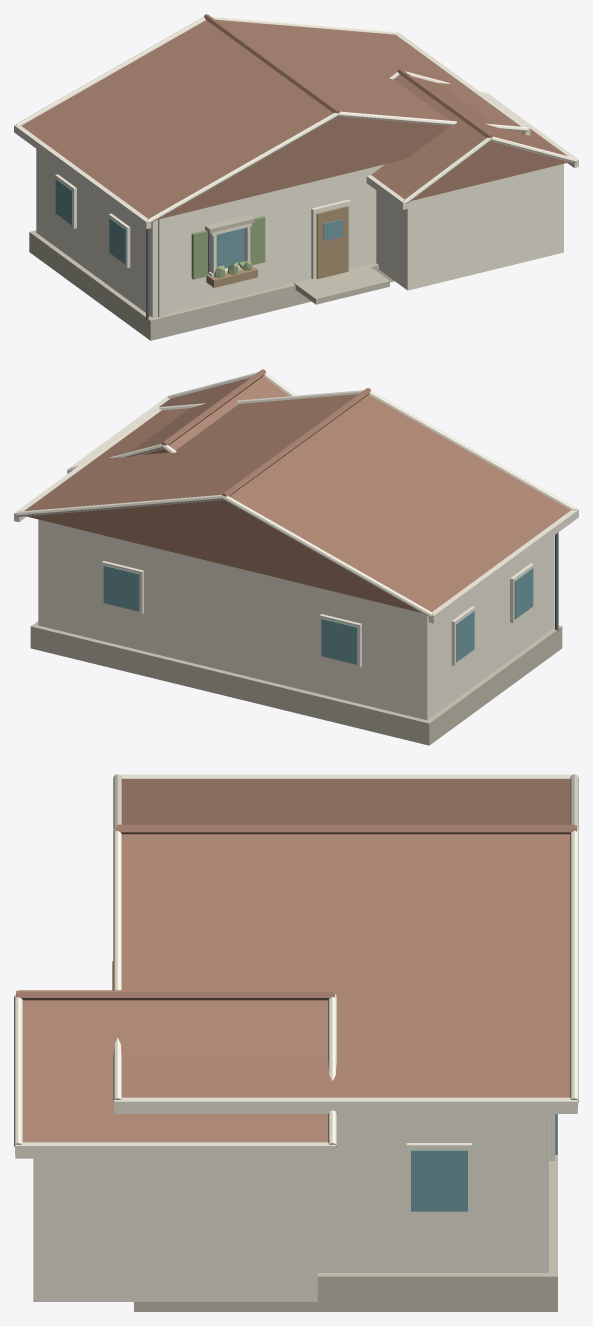
Rendered from home-2.glb.
3 views of the same model, one above another, from view 1: azimuth 30°, elevation 25°; view 2: azimuth 150°, elevation 25°; view 3: azimuth 270°, elevation 25° (orthographic). The views are drawn at different scales.
Size of the model in its own units: 13.65 by 6.12 by 9.46.
